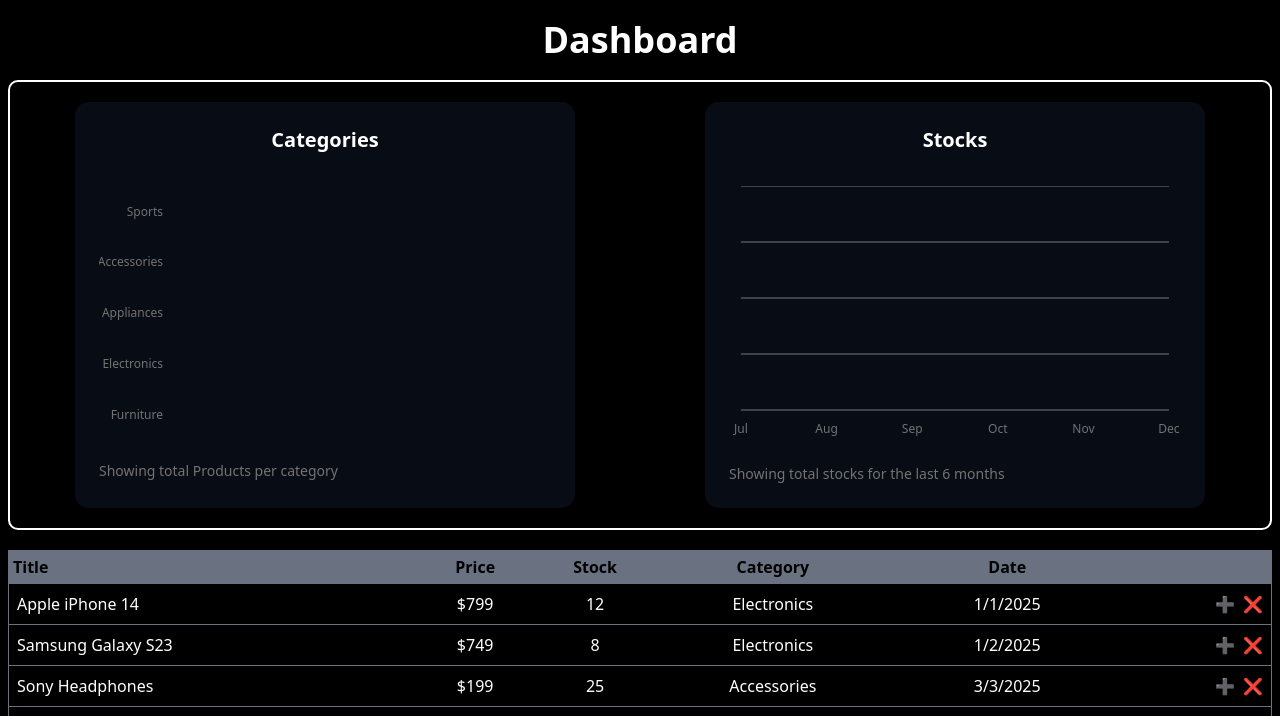
Test: ProductTable – add product flow › product table edit flow
This screenshot has width=1280, height=716.
Click the button named "Delete product": point(1253, 604) 1243,592 -> 1263,616
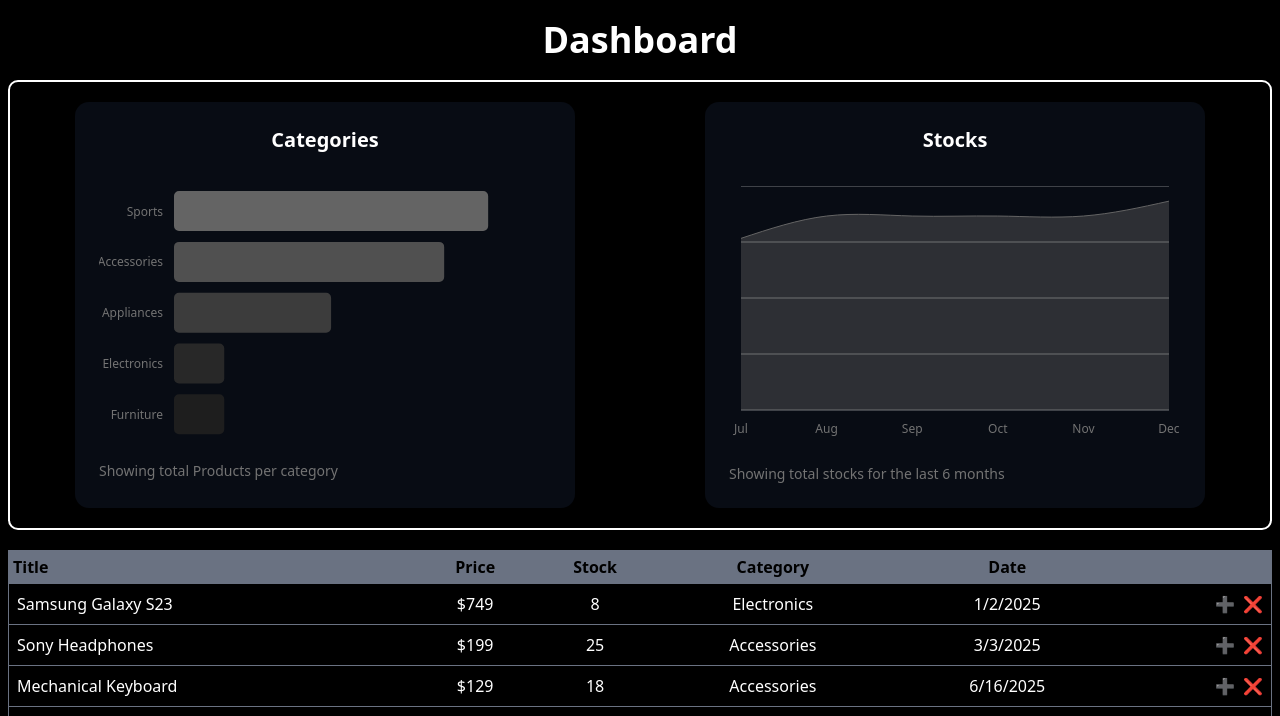
Expected: the text "Apple iPhone 14" is gone
